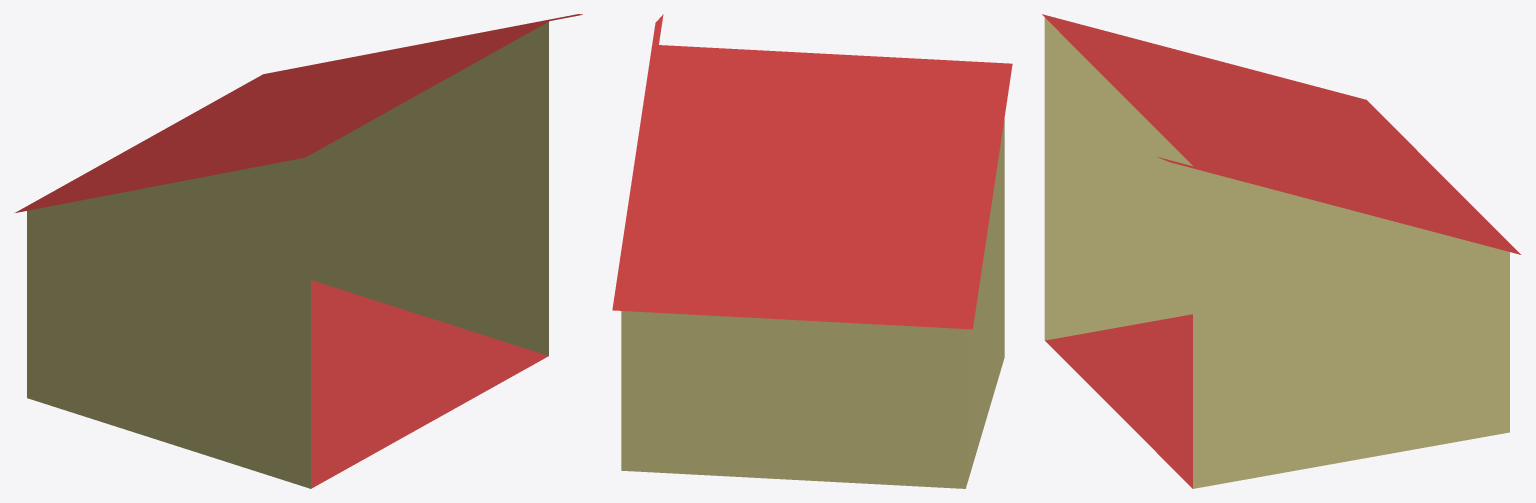
3 views of the same model, side by side, from view 1: azimuth 30°, elevation 25°; view 2: azimuth 150°, elevation 25°; view 3: azimuth 270°, elevation 25° (orthographic). The views are drawn at different scales.
Bounding box in the file's own units: 14.45 × 13.45 × 10.5.
